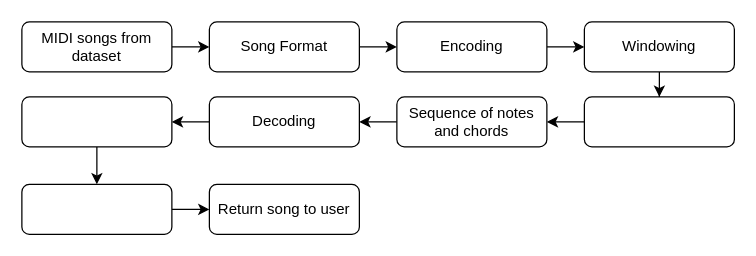
Image size: 756x256. Some labels were removed from this diagram. Here are the shapes that lost their labels. From the top down, the centre of each, then its label:
At point (96, 121): "Convert back to MIDI".
At point (658, 121): "Neural Network".
At point (96, 208): "Convert MIDI to MP3".
